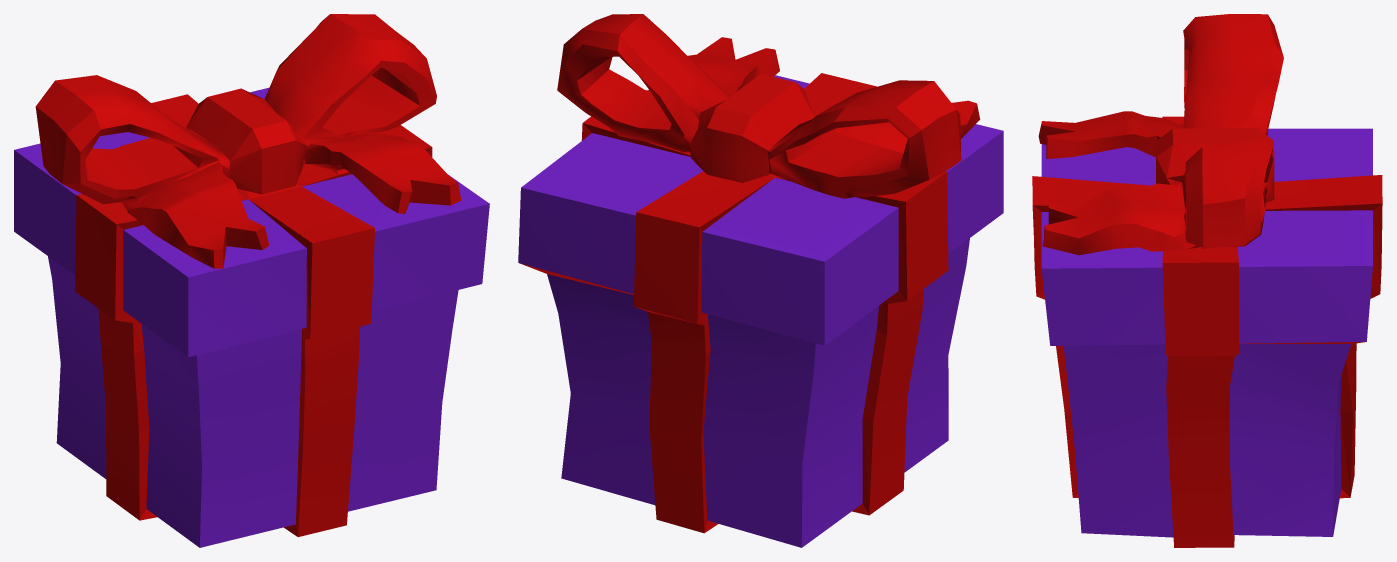
The model's file is PackageHighTier.fbx.
3 renders of one model, left to right at view 1: azimuth 30°, elevation 25°; view 2: azimuth 150°, elevation 25°; view 3: azimuth 270°, elevation 25°, orthographic. The views are drawn at different scales.
Parts seen in each view (by area): view 1: Box001; view 2: Box001; view 3: Box001.
Part boxes in pixels (x1,y1,x2,y2): Box001: [14, 14, 489, 547]; Box001: [518, 14, 1003, 547]; Box001: [1032, 14, 1382, 547].
Size of the model in its own units: 28.34 by 30.37 by 24.01.
